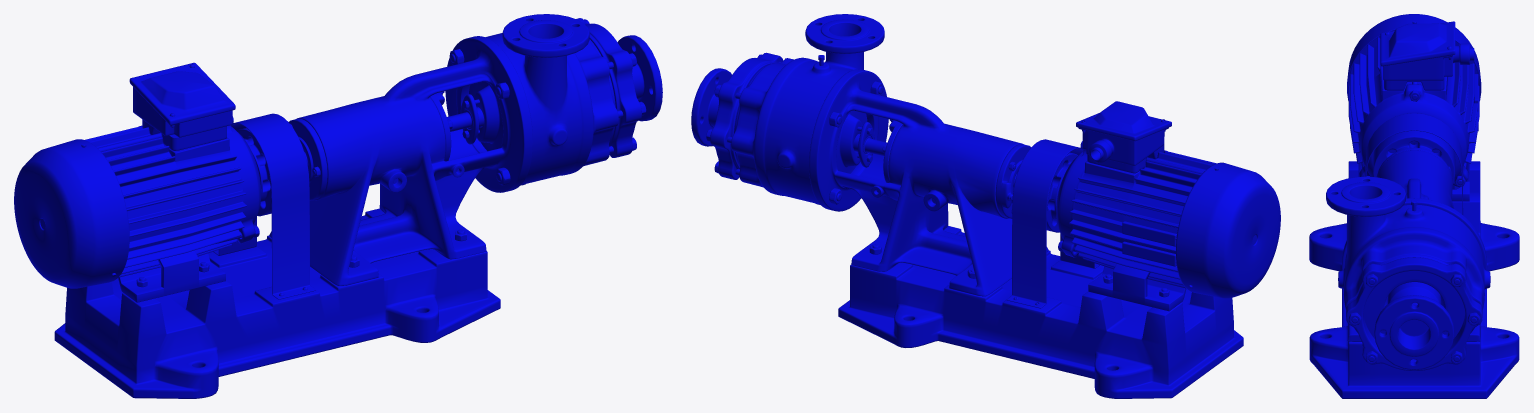
Rendered from pump_v2.glb.
3 views of the same model, side by side, from view 1: azimuth 30°, elevation 25°; view 2: azimuth 150°, elevation 25°; view 3: azimuth 270°, elevation 25° (orthographic). The views are drawn at different scales.
Parts seen in each view (by area): view 1: carcaça, mancal, motor, ventilador, centrifuga_up, eletrica, centrifuga_in, rotor; view 2: carcaça, mancal, centrifuga_up, motor, ventilador, eletrica, centrifuga_in, rotor; view 3: carcaça, centrifuga_up, centrifuga_in, motor, eletrica, mancal, ventilador, rotor.
Part boxes in pixels (x1=…): carcaça: x1=40, y1=19, x2=646, y2=398; mancal: x1=269, y1=36, x2=532, y2=285; motor: x1=85, y1=125, x2=261, y2=277; ventilador: x1=14, y1=139, x2=129, y2=288; centrifuga_up: x1=485, y1=14, x2=618, y2=185; eletrica: x1=129, y1=62, x2=235, y2=150; centrifuga_in: x1=576, y1=18, x2=662, y2=157; rotor: x1=237, y1=107, x2=484, y2=216; carcaça: x1=706, y1=54, x2=1256, y2=398; mancal: x1=809, y1=69, x2=1048, y2=296; centrifuga_up: x1=731, y1=14, x2=884, y2=204; motor: x1=1056, y1=149, x2=1216, y2=288; ventilador: x1=1176, y1=162, x2=1280, y2=298; eletrica: x1=1076, y1=101, x2=1171, y2=173; centrifuga_in: x1=691, y1=52, x2=783, y2=179; rotor: x1=853, y1=133, x2=1077, y2=232; carcaça: x1=1309, y1=21, x2=1519, y2=398; centrifuga_up: x1=1326, y1=176, x2=1490, y2=345; centrifuga_in: x1=1346, y1=257, x2=1482, y2=371; motor: x1=1348, y1=37, x2=1479, y2=187; eletrica: x1=1380, y1=21, x2=1474, y2=90; mancal: x1=1341, y1=147, x2=1486, y2=341; ventilador: x1=1347, y1=14, x2=1481, y2=100; rotor: x1=1373, y1=130, x2=1455, y2=184.
Bounding box in the file's own units: 773 × 325 × 255.
